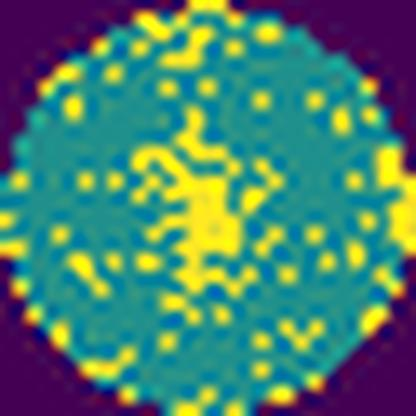Center: (131, 103, 266, 305)
